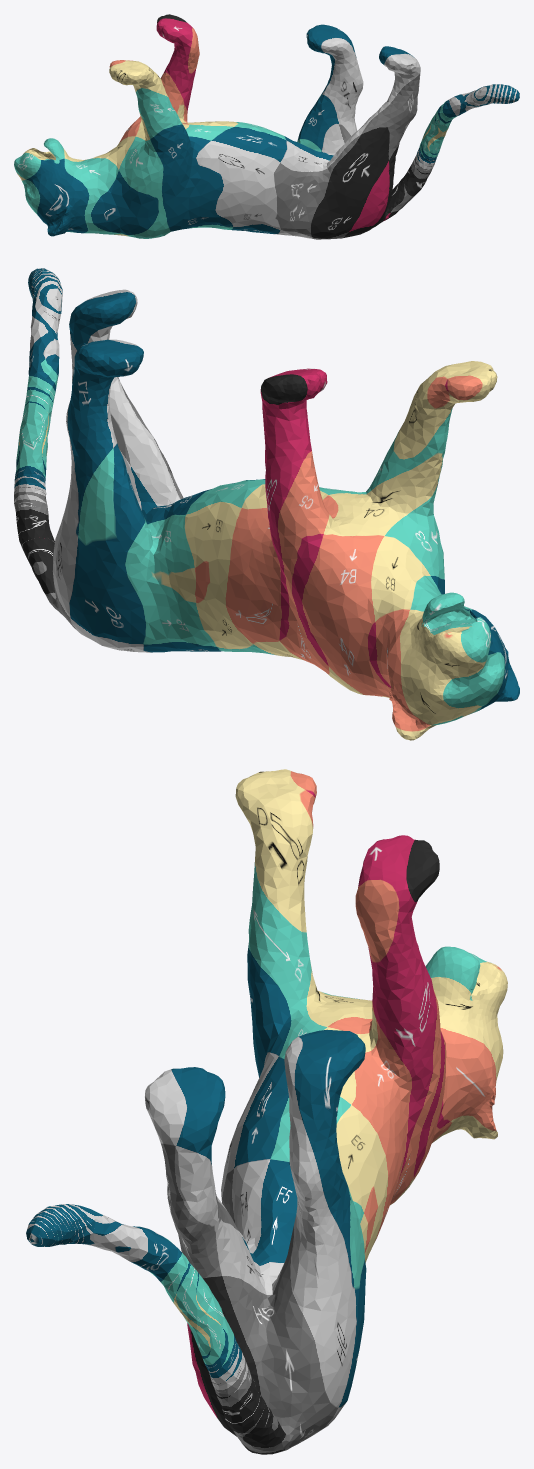
File: hippo_02-cougar_01.obj
The picture shows the model from 3 angles, top to bottom: view 1: azimuth 30°, elevation 25°; view 2: azimuth 150°, elevation 25°; view 3: azimuth 270°, elevation 25°; orthographic projection. The views are drawn at different scales.
Parts seen in each view (by area): view 1: hippo_02-cougar_01_export; view 2: hippo_02-cougar_01_export; view 3: hippo_02-cougar_01_export.
Boxes of the visible parts, x1=… form: hippo_02-cougar_01_export: x1=14, y1=14, x2=519, y2=239; hippo_02-cougar_01_export: x1=14, y1=268, x2=519, y2=740; hippo_02-cougar_01_export: x1=26, y1=769, x2=507, y2=1454.
Bounding box in the file's own units: 1.06 × 0.5852 × 0.5632.
